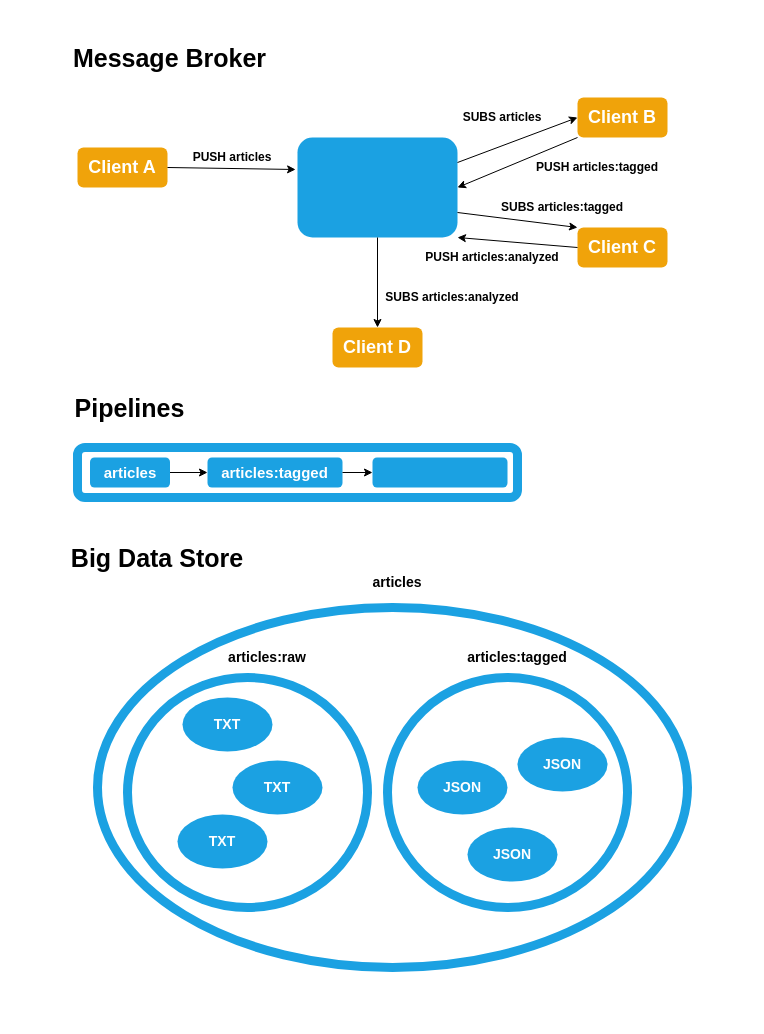
The diagram is 764 pixels wide and 1034 high, and some of its shapes have lost their labels. Each missing label, with the centre of its shape:
"articles:analyzed" goes at point 439,472.
"Schnedale" goes at point 377,187.
